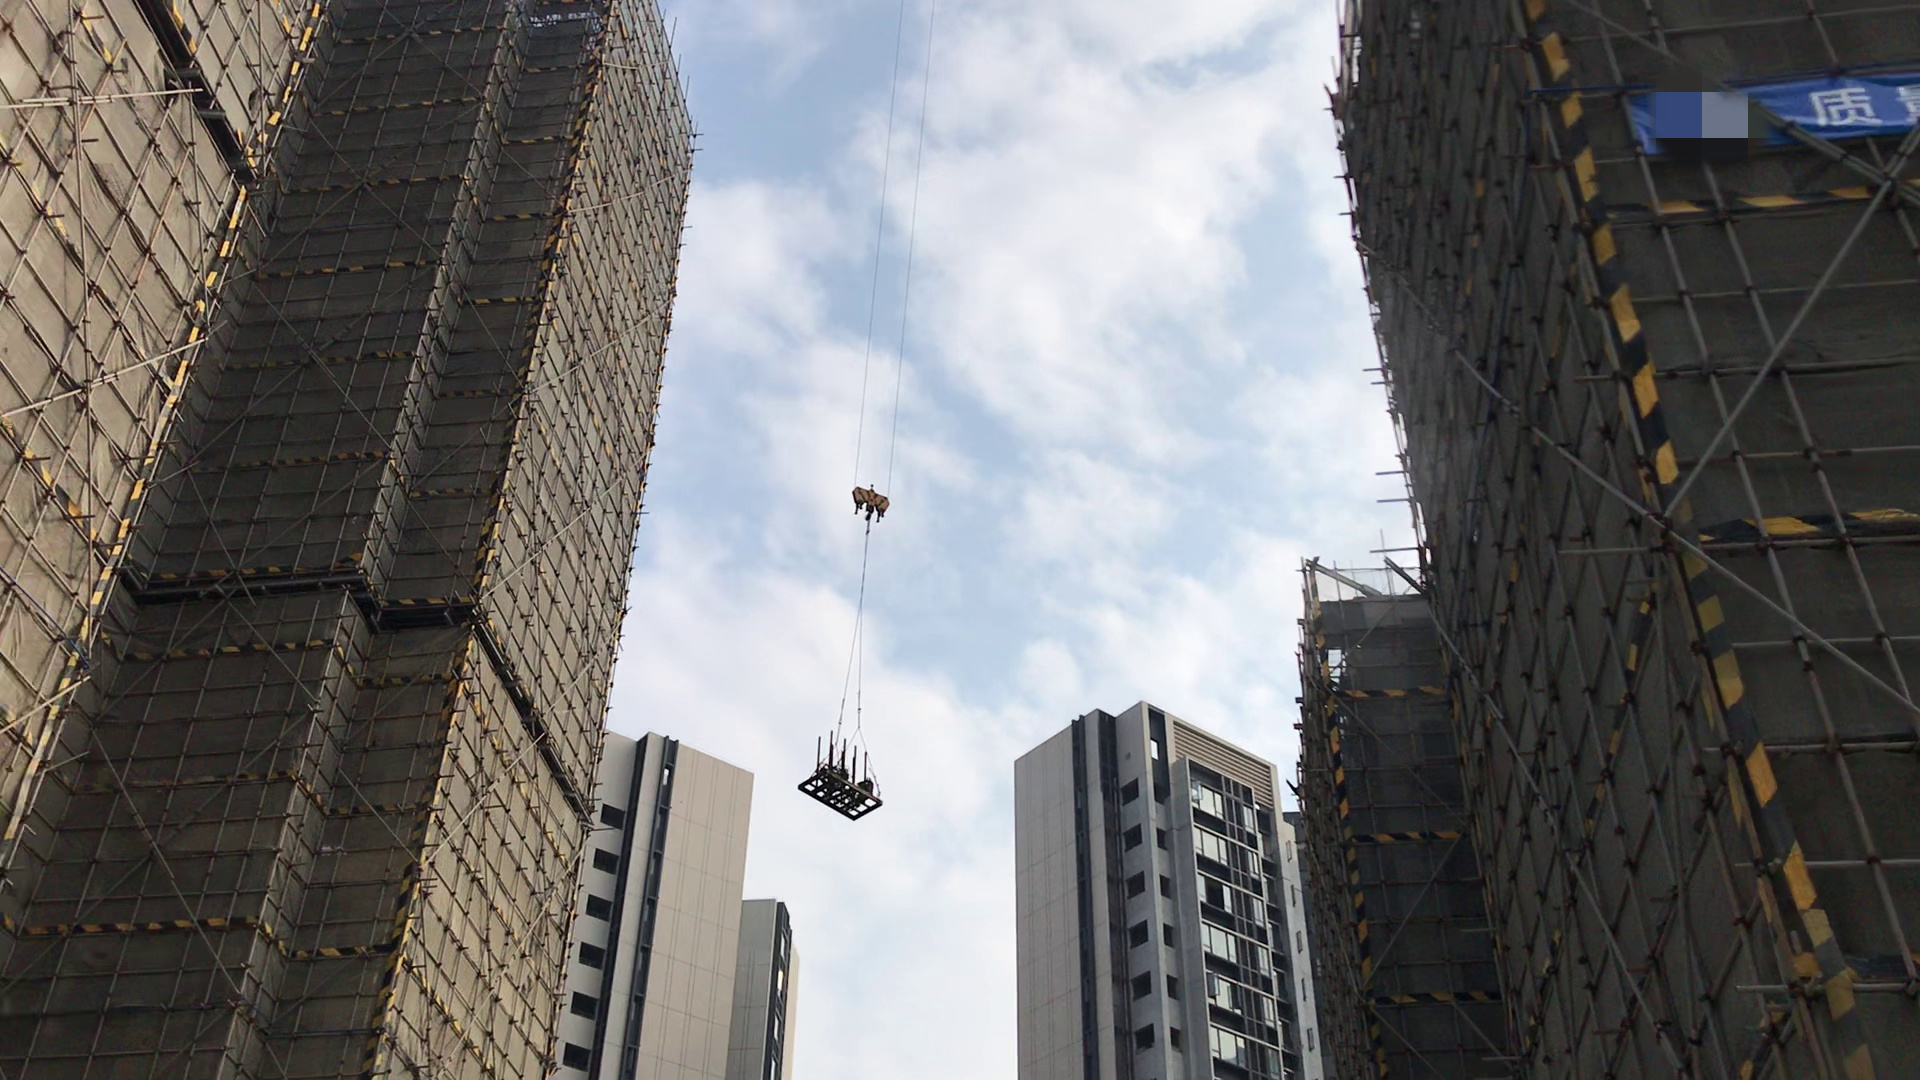hook: (851, 479, 902, 524)
slogan: (1644, 67, 1920, 117)
